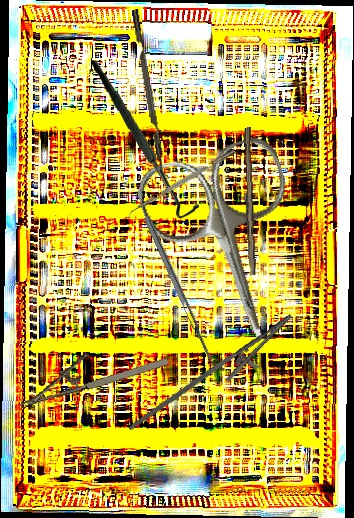Chopper: (124, 148, 239, 222), (131, 7, 174, 181)
Hook Surgical: (91, 53, 200, 224)
Iris Scissors: (131, 132, 328, 361)
Needle Holder: (127, 295, 303, 460), (11, 333, 170, 409)
Scalpel Handle: (239, 127, 259, 276)
Spatula Surgical: (143, 212, 226, 376)
